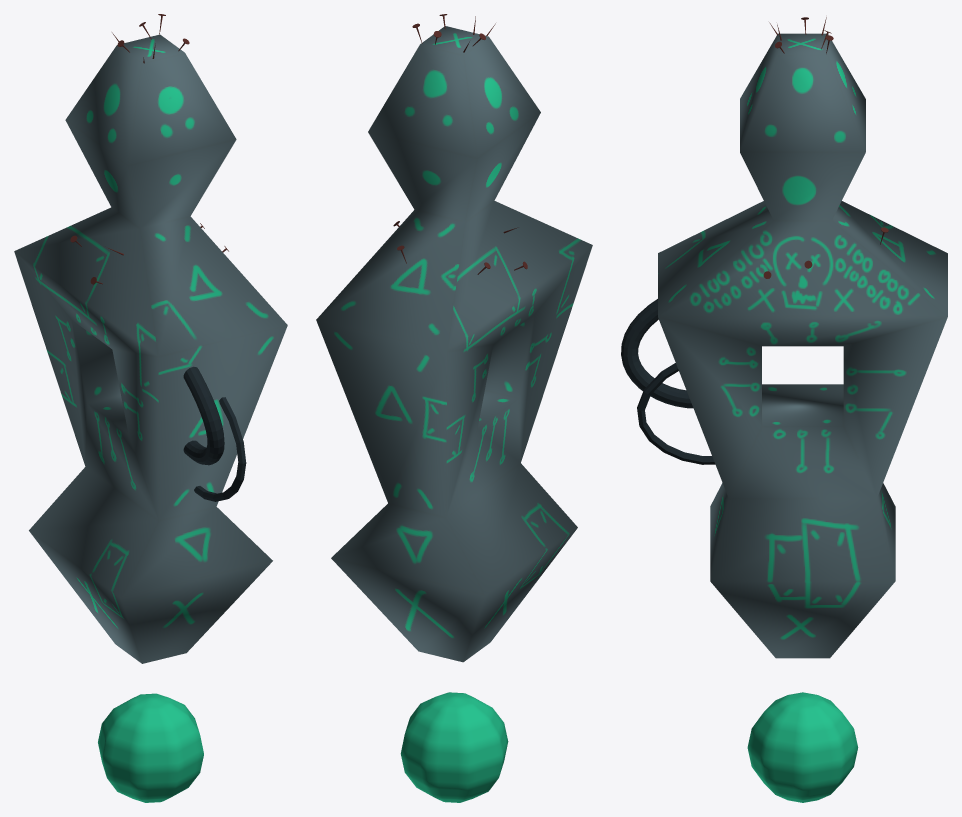
The model's file is evil_bot_2.0.gltf.
3 views of the same model, side by side, from view 1: azimuth 30°, elevation 25°; view 2: azimuth 150°, elevation 25°; view 3: azimuth 270°, elevation 25° (orthographic).
Visible parts, largest first — view 1: Cube.002, Cube.003, BezierCurve, BezierCurve.001; view 2: Cube.002, Cube.003; view 3: Cube.002, Cube.003, BezierCurve, BezierCurve.001.
Part boxes in pixels (bbox=[...]): Cube.002: bbox=[14, 34, 287, 663]; Cube.003: bbox=[98, 693, 203, 802]; BezierCurve: bbox=[183, 366, 224, 465]; BezierCurve.001: bbox=[194, 397, 246, 501]; Cube.002: bbox=[316, 26, 592, 662]; Cube.003: bbox=[400, 692, 508, 802]; Cube.002: bbox=[658, 33, 947, 658]; Cube.003: bbox=[747, 692, 858, 802]; BezierCurve: bbox=[621, 299, 693, 408]; BezierCurve.001: bbox=[637, 363, 715, 464].
Size of the model in its own units: 0.8038 by 3.88 by 1.49.
Materials: 1 (1 with a texture image).
